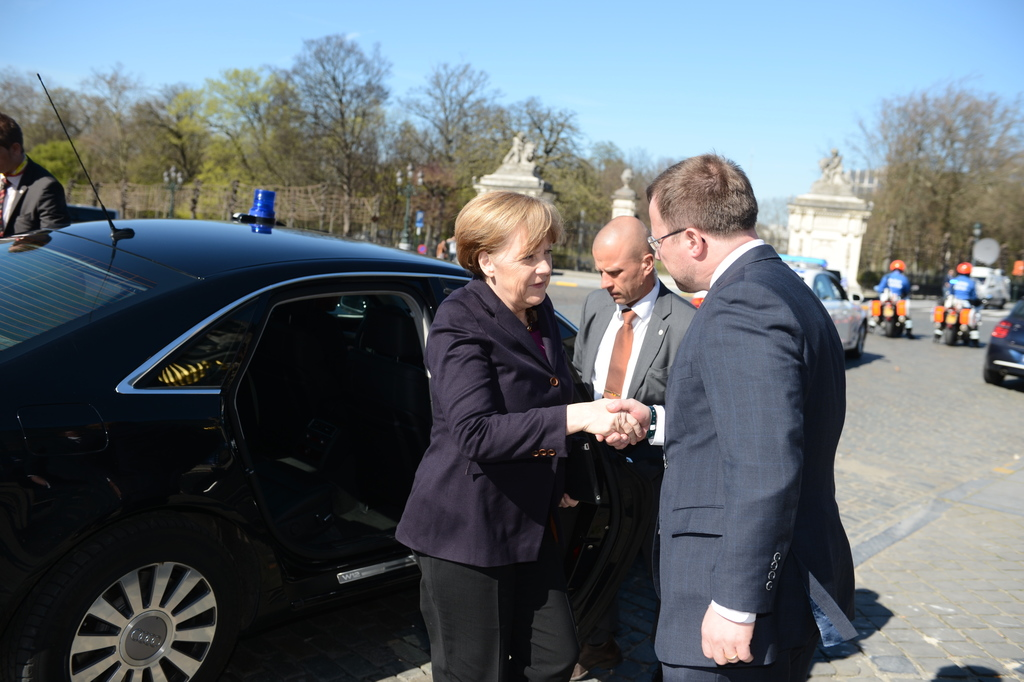Car: (0, 71, 579, 681), (787, 257, 867, 358), (984, 303, 1023, 389)
